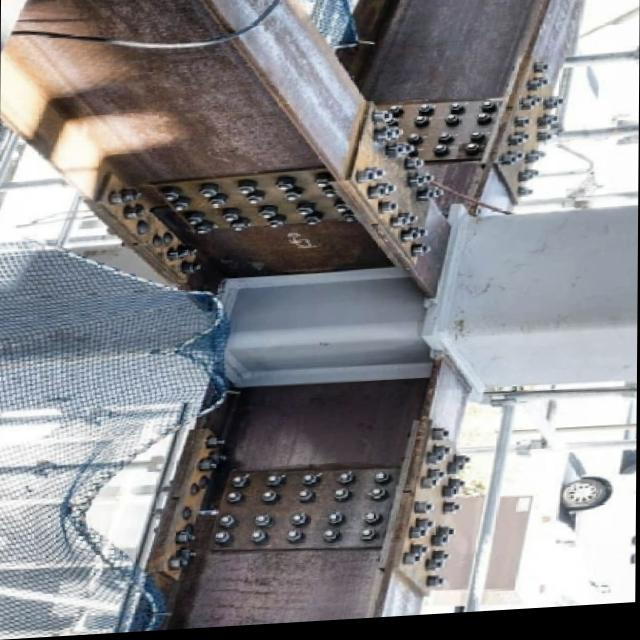Regular bolt: (257, 207, 283, 229), (185, 212, 207, 234), (289, 514, 310, 537), (273, 178, 297, 198), (440, 121, 466, 139), (232, 220, 253, 240), (198, 188, 222, 205), (332, 202, 353, 221), (163, 187, 182, 208), (237, 183, 258, 201), (267, 219, 288, 237), (297, 206, 319, 223), (229, 474, 248, 493), (248, 194, 267, 213), (358, 532, 378, 550), (469, 135, 489, 153), (210, 197, 231, 214), (214, 531, 230, 553), (302, 476, 320, 495), (249, 531, 267, 550), (416, 108, 435, 126), (314, 178, 334, 195), (255, 517, 273, 535), (437, 137, 455, 155), (476, 118, 493, 137), (386, 109, 405, 126), (342, 214, 361, 231), (173, 199, 192, 216), (430, 149, 450, 165), (448, 109, 469, 124), (365, 515, 382, 533), (337, 475, 355, 492), (286, 532, 304, 549), (266, 476, 282, 495), (308, 216, 324, 235), (297, 492, 314, 509), (224, 493, 241, 510), (327, 516, 346, 531), (223, 213, 242, 228), (369, 491, 385, 508), (333, 492, 350, 508), (260, 493, 276, 510), (413, 119, 429, 136), (322, 535, 341, 549), (194, 226, 213, 240), (221, 517, 237, 532), (406, 137, 422, 152), (322, 194, 342, 206), (287, 195, 305, 208), (373, 475, 390, 488), (479, 106, 496, 119), (465, 150, 479, 163)
